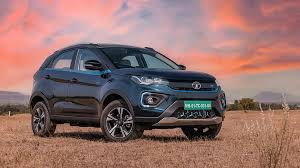Tata Nexon: (27, 39, 229, 145)
